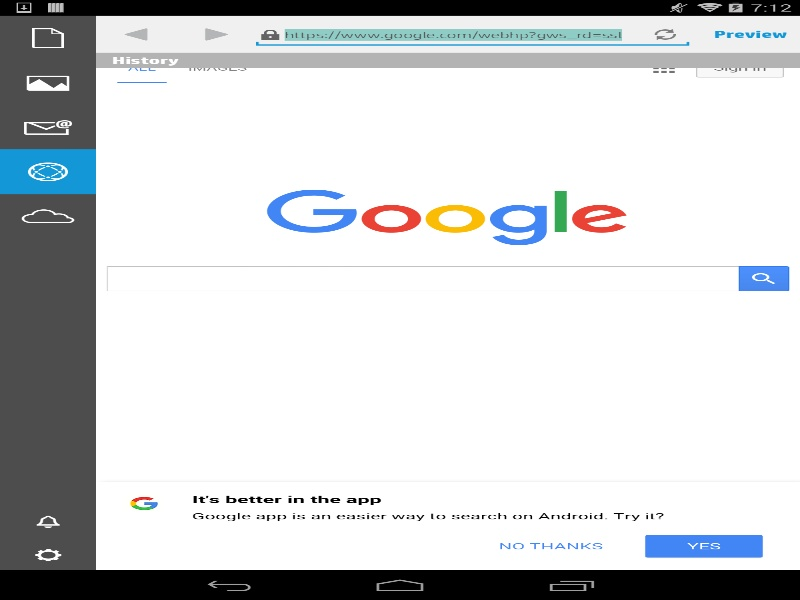Button: (488, 534, 616, 556), (645, 535, 762, 557), (96, 21, 176, 47), (176, 21, 256, 47), (738, 266, 789, 291), (641, 21, 689, 47), (285, 582, 386, 593), (644, 58, 684, 77)
Input: (256, 29, 689, 47)
